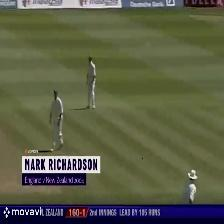ball: (140, 156, 145, 161)
